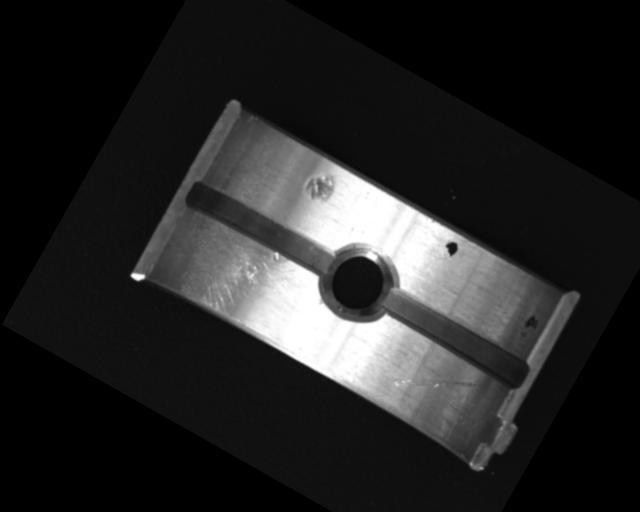blot: (515, 311, 542, 344), (439, 238, 460, 261)
bruise: (300, 162, 342, 207)
gap: (181, 174, 344, 287), (375, 280, 536, 393)
hole: (307, 231, 412, 337)
nick: (391, 346, 478, 421)
scratch: (155, 207, 323, 352)
